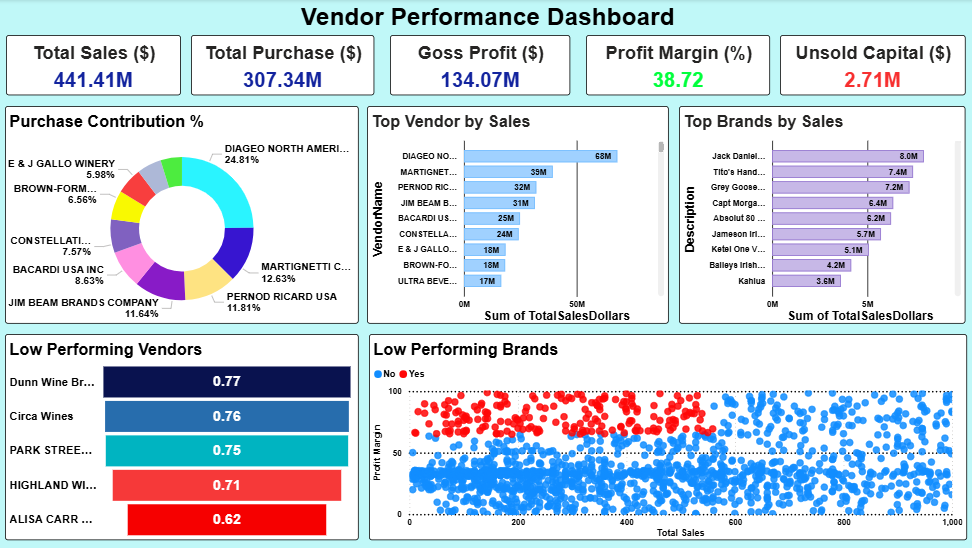

The page's visual inventory and layout, read from the dashboard file:
{"tool":"powerbi","page":{"name":"Page 1","canvas":[1280,720],"ordinal":0},"visuals":[{"type":"textbox","box":[0,0,1280,47.5],"z":0},{"type":"card","title":"Total Sales ($)","fields":{"Values":["Sum(vendor_sales_summary.TotalSalesDollars)"]},"box":[8.8,47.5,228.8,78.8],"z":1000},{"type":"card","title":"Unsold Capital ($)","fields":{"Values":["Sum(vendor_sales_summary.UnsoldInventoryValue)"]},"box":[1022.5,47.5,242.5,78.8],"z":2000},{"type":"card","title":"Profit Margin (%)","fields":{"Values":["Avg(vendor_sales_summary.ProfitMargin)"]},"box":[768.8,47.5,241.2,78.8],"z":3000},{"type":"card","title":"Goss Profit ($)","fields":{"Values":["Sum(vendor_sales_summary.GrossProfit)"]},"box":[511.2,47.5,236.2,78.8],"z":4000},{"type":"card","title":"Total Purchase ($)","fields":{"Values":["Sum(vendor_sales_summary.TotalPurchaseDollars)"]},"box":[251.2,47.5,240,78.8],"z":5000},{"type":"donutChart","title":"Purchase Contribution %","fields":{"Category":["PurchaseContribution.VendorName"],"Y":["Sum(PurchaseContribution.PurchaseContribution%)"]},"box":[8.3,140,463.3,285],"z":6000},{"type":"barChart","title":"Top Vendor by Sales","fields":{"Y":["Sum(vendor_sales_summary.TotalSalesDollars)"],"Category":["vendor_sales_summary.VendorName"]},"box":[481.2,140,395,285],"z":7000},{"type":"barChart","title":"Top Brands by Sales","fields":{"Y":["Sum(vendor_sales_summary.TotalSalesDollars)"],"Category":["vendor_sales_summary.Description"]},"box":[890,140,375,285],"z":8000},{"type":"funnel","title":"Low Performing Vendors","fields":{"Category":["LowPerformingVendors.VendorName"],"Y":["Avg(LowPerformingVendors.AvgStockTurnOver)"]},"box":[8.3,438.3,463.3,270],"z":9000},{"type":"scatterChart","title":"Low Performing Brands","fields":{"Category":["BrandPerformance.Description"],"X":["Sum(BrandPerformance.TotalSales)"],"Y":["Sum(BrandPerformance.AverageProfitMargin)"],"Series":["BrandPerformance.TargetBrand"]},"box":[485,438.3,783.3,270],"z":10000}]}

Visuals, with their boxes in screenshot pixels (x1, y1, x2, y2), scaled from the page's 1280x720 canvas onto the 972x548 screenshot:
textbox: bbox(0, 0, 971, 36)
"Total Sales ($)" card: bbox(7, 36, 180, 96)
"Unsold Capital ($)" card: bbox(776, 36, 961, 96)
"Profit Margin (%)" card: bbox(584, 36, 767, 96)
"Goss Profit ($)" card: bbox(388, 36, 568, 96)
"Total Purchase ($)" card: bbox(191, 36, 373, 96)
"Purchase Contribution %" donutChart: bbox(6, 107, 358, 323)
"Top Vendor by Sales" barChart: bbox(365, 107, 665, 323)
"Top Brands by Sales" barChart: bbox(676, 107, 961, 323)
"Low Performing Vendors" funnel: bbox(6, 334, 358, 539)
"Low Performing Brands" scatterChart: bbox(368, 334, 963, 539)
